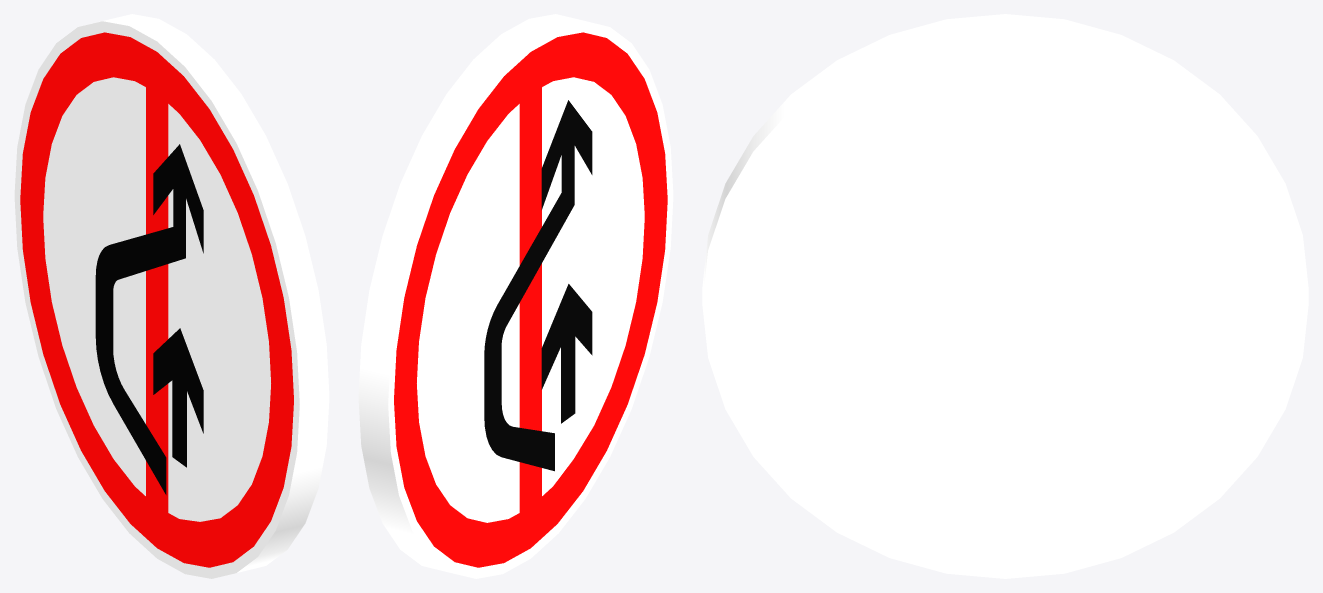
File: No_OverTaking.glb
The picture shows the model from 3 angles, left to right: view 1: azimuth 30°, elevation 25°; view 2: azimuth 150°, elevation 25°; view 3: azimuth 270°, elevation 25°; orthographic projection. The views are drawn at different scales.
Visible parts, largest first — view 1: No_OverTaking; view 2: No_OverTaking; view 3: No_OverTaking.
Part boxes in pixels (x1=…): No_OverTaking: x1=14, y1=14, x2=329, y2=578; No_OverTaking: x1=358, y1=14, x2=673, y2=578; No_OverTaking: x1=702, y1=14, x2=1308, y2=578.
Size of the model in its own units: 0.075 by 1 by 1.
